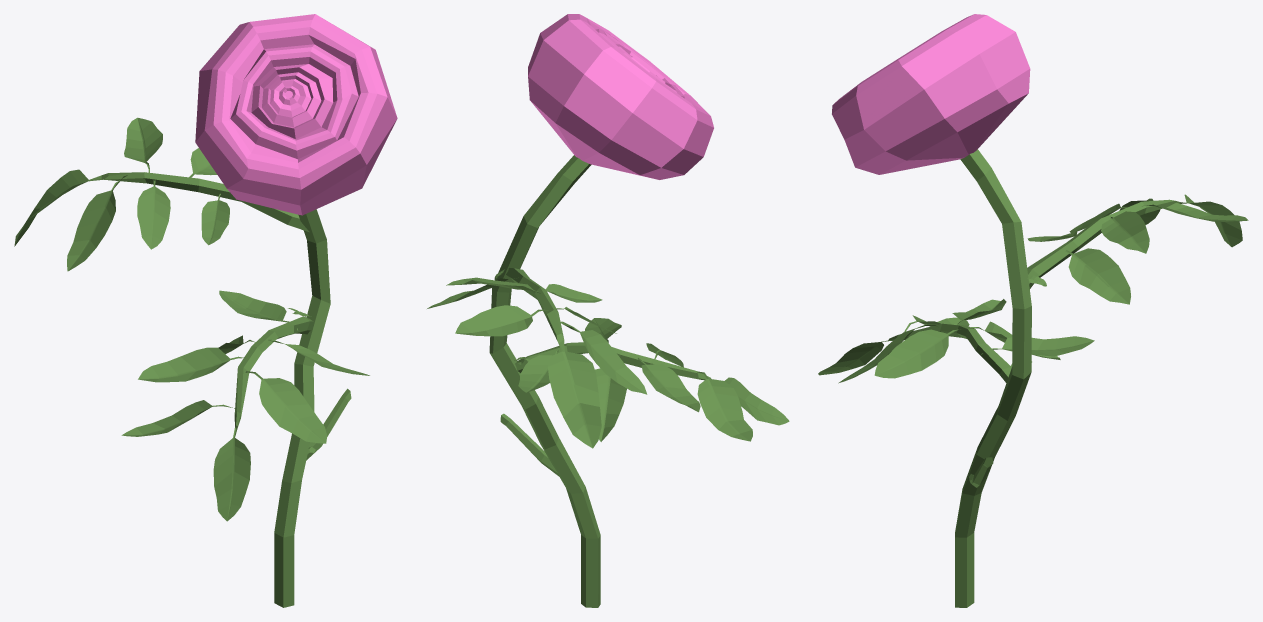
The model's file is low-poly_rose.glb.
3 renders of one model, left to right at view 1: azimuth 30°, elevation 25°; view 2: azimuth 150°, elevation 25°; view 3: azimuth 270°, elevation 25°, orthographic.
Parts seen in each view (by area): view 1: Plane.006; view 2: Plane.006; view 3: Plane.006.
Boxes of the visible parts, box(x1,y1,x2,y2) form: Plane.006: box(14, 14, 397, 607); Plane.006: box(427, 14, 789, 607); Plane.006: box(818, 14, 1248, 607).
Bounding box in the file's own units: 258 × 583 × 389.
